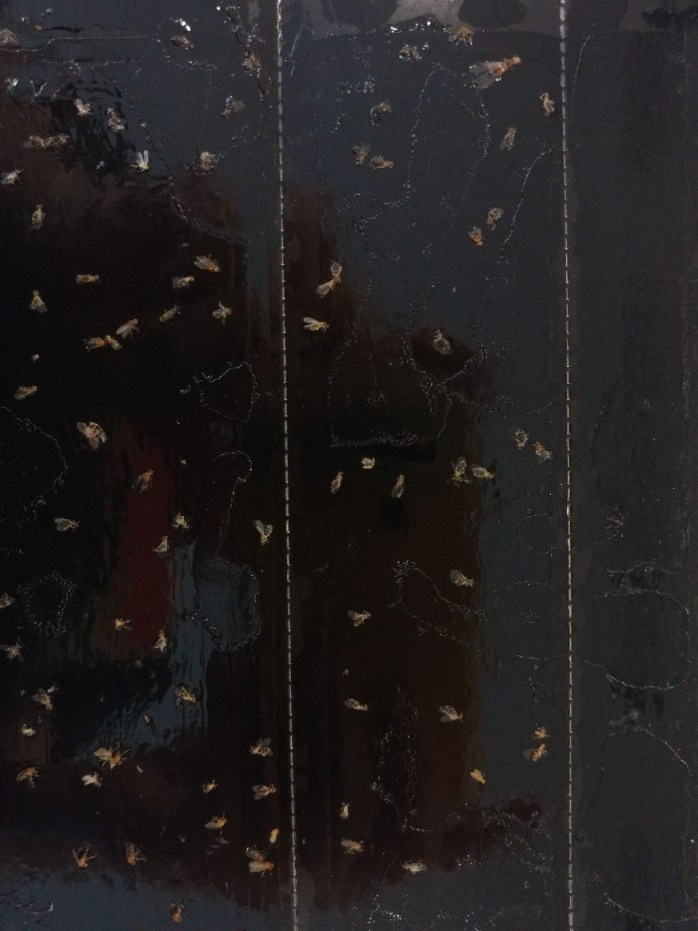termite: (462, 51, 526, 89)
